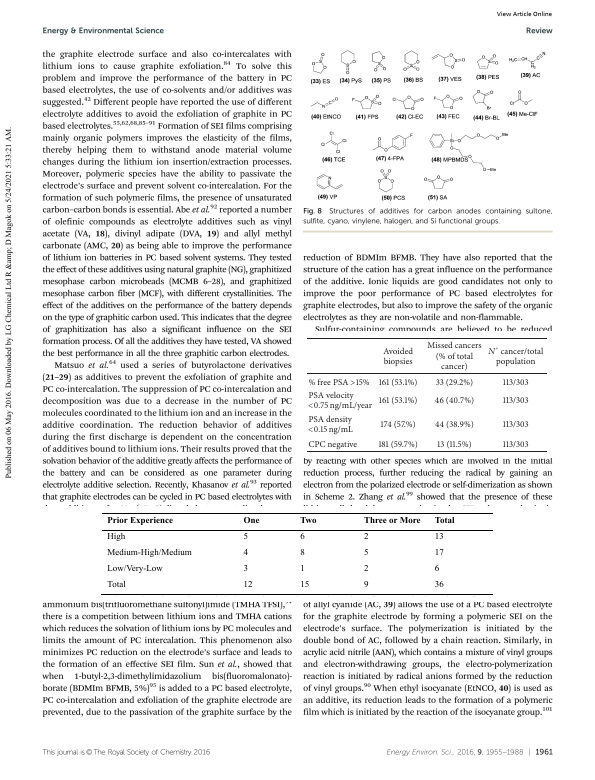borderless: (101, 511, 493, 594), (305, 336, 547, 451)
cell: (426, 341, 483, 372), (307, 390, 373, 413), (487, 342, 544, 367), (307, 414, 354, 437), (307, 373, 371, 389), (106, 548, 192, 558), (382, 346, 414, 367), (106, 515, 173, 525), (362, 515, 421, 525), (106, 564, 163, 574), (307, 439, 358, 450), (377, 439, 419, 450), (434, 395, 475, 406), (434, 419, 475, 430), (378, 395, 418, 406), (380, 419, 417, 430), (436, 439, 473, 450), (378, 377, 418, 387), (435, 377, 474, 387), (502, 395, 530, 406), (502, 419, 530, 430), (502, 439, 530, 450), (502, 377, 530, 387), (433, 515, 455, 525), (106, 532, 126, 542), (106, 580, 126, 590), (242, 515, 260, 525), (299, 515, 317, 525), (433, 532, 444, 542), (433, 548, 444, 558), (242, 580, 253, 590), (299, 580, 310, 590), (433, 580, 444, 590), (362, 532, 369, 542), (362, 548, 369, 558), (362, 564, 369, 574), (433, 564, 440, 574), (362, 580, 369, 590), (242, 532, 248, 542), (299, 532, 305, 542), (242, 548, 248, 558), (299, 548, 305, 558), (242, 564, 248, 574), (299, 564, 305, 574)
